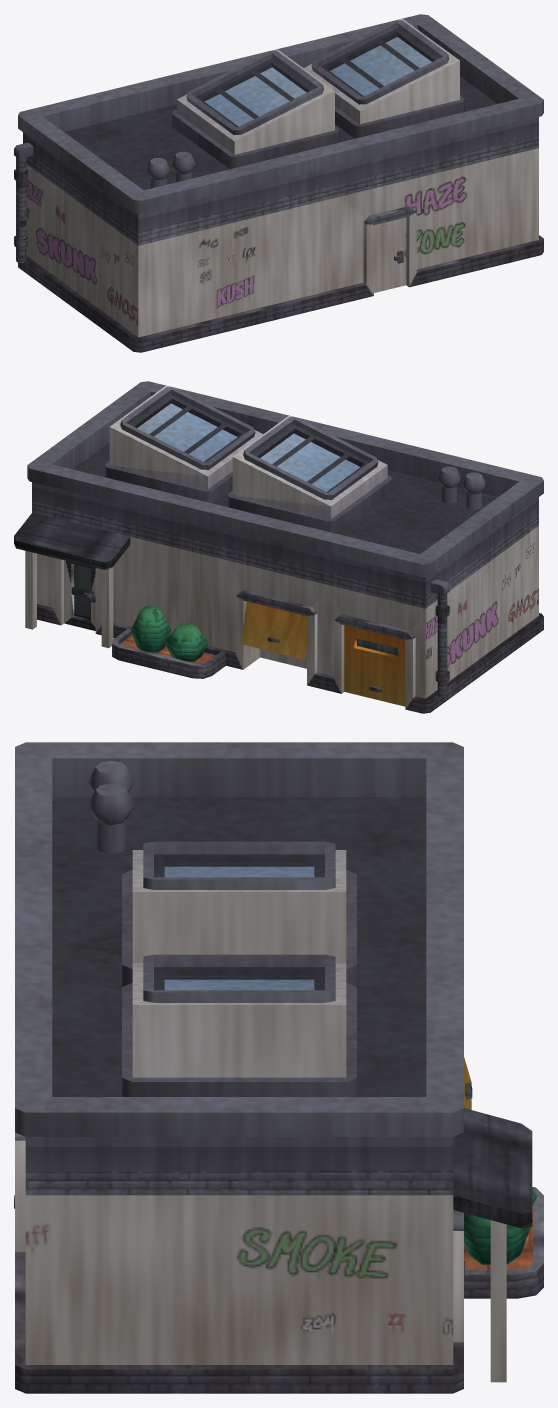
The model's file is building-p-white-scuffed.glb.
3 renders of one model, top to bottom at view 1: azimuth 30°, elevation 25°; view 2: azimuth 150°, elevation 25°; view 3: azimuth 270°, elevation 25°, orthographic. The views are drawn at different scales.
Parts seen in each view (by area): view 1: building-p; view 2: building-p; view 3: building-p.
Boxes of the visible parts, <box> form: building-p: <box>14,14,543,352</box>; building-p: <box>14,381,543,713</box>; building-p: <box>14,742,543,1393</box>.
Bounding box in the file's own units: 1.68 × 0.7146 × 0.992.
Materials: 1 (1 with a texture image).
